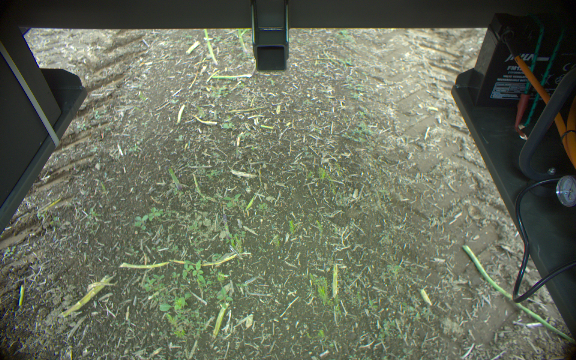aspa: (200, 28, 219, 65), (209, 70, 254, 81), (166, 166, 183, 195), (233, 29, 247, 54)
